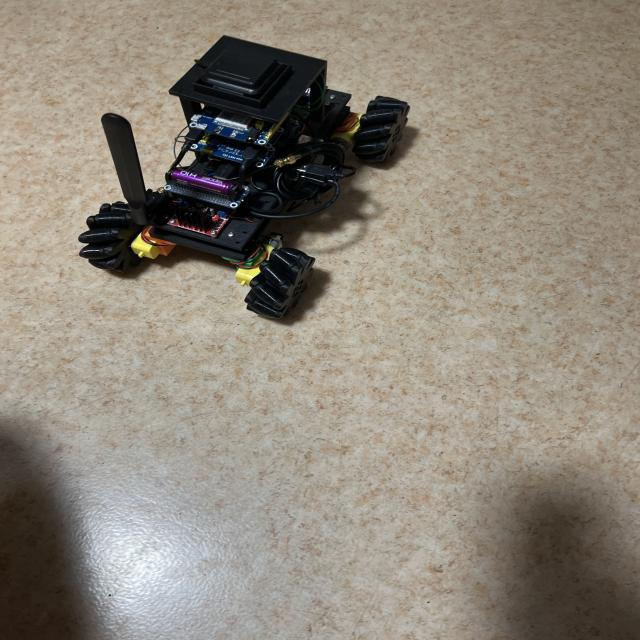robot: (79, 36, 409, 319)
